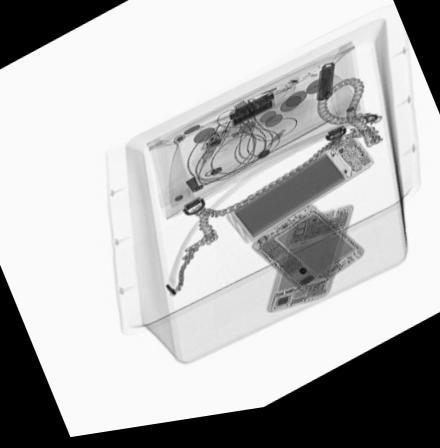Powerbank: (220, 143, 376, 255)
